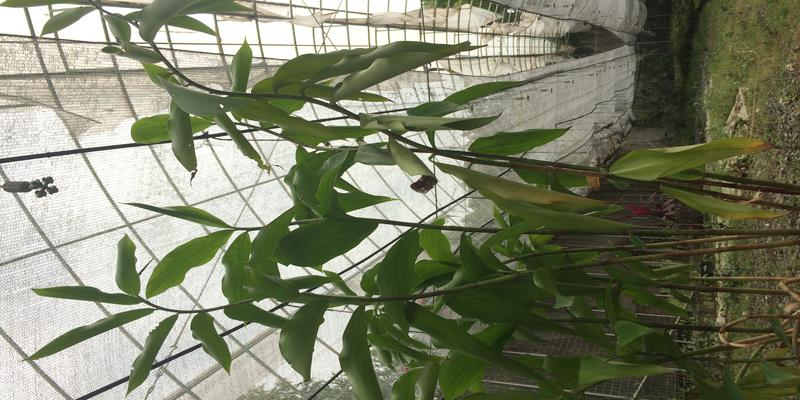Insulin: (173, 82, 774, 379)
